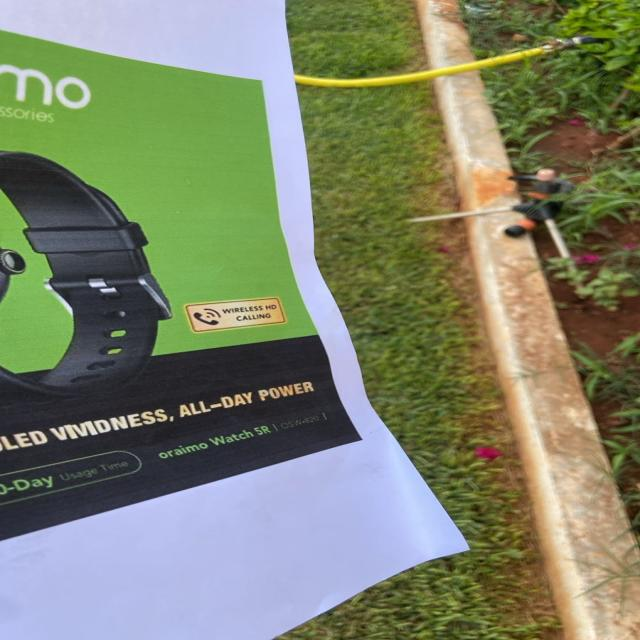Oraimo Watch 5R OSW-820: (154, 410, 334, 460)
